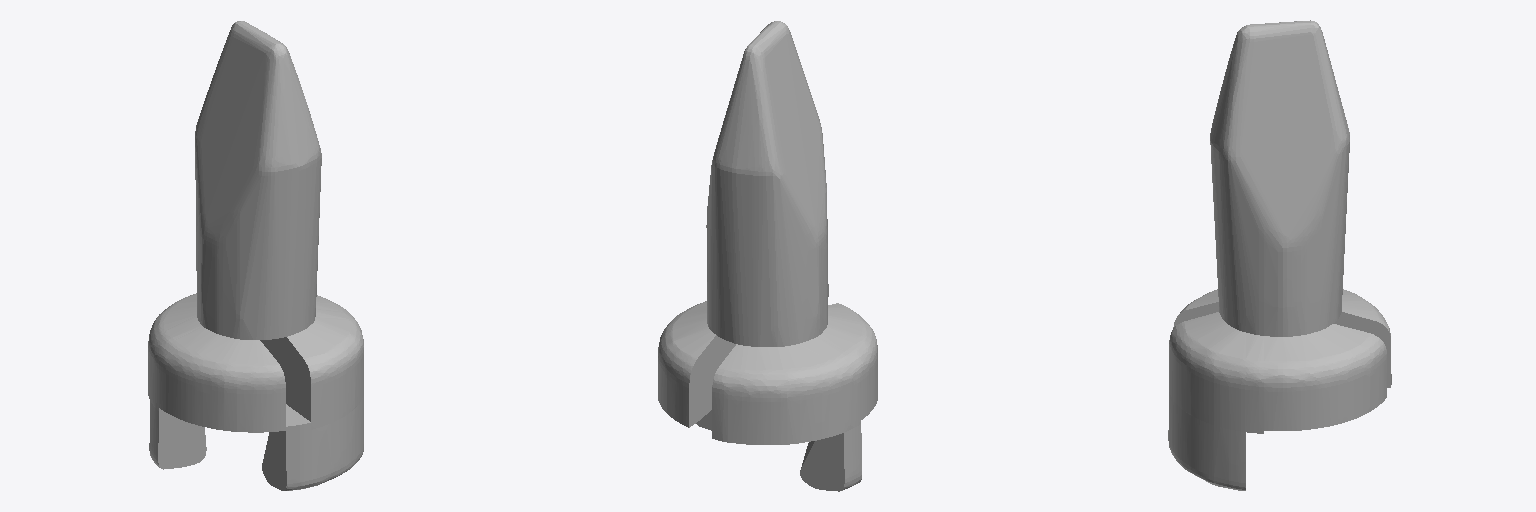
The robot description file, URDF, robot "root":
<robot name="root"><link name="body"><visual>
      <origin xyz="0 0 0" rpy="0 0 0" />
      <geometry>
        <mesh filename="coacd_convex_piece_0.obj" scale="1.0000E+00 1.0000E+00 1.0000E+00" />
      </geometry>
      <material name="">
        <color rgba="7.50E-01 7.50E-01 7.50E-01 1" />
      </material>
    </visual>
    <collision>
      <origin xyz="0 0 0" rpy="0 0 0" />
      <geometry>
        <mesh filename="coacd_convex_piece_0.obj" scale="1.0000E+00 1.0000E+00 1.0000E+00" />
      </geometry>
    </collision>
  <visual>
      <origin xyz="0 0 0" rpy="0 0 0" />
      <geometry>
        <mesh filename="coacd_convex_piece_1.obj" scale="1.0000E+00 1.0000E+00 1.0000E+00" />
      </geometry>
      <material name="">
        <color rgba="7.50E-01 7.50E-01 7.50E-01 1" />
      </material>
    </visual>
    <collision>
      <origin xyz="0 0 0" rpy="0 0 0" />
      <geometry>
        <mesh filename="coacd_convex_piece_1.obj" scale="1.0000E+00 1.0000E+00 1.0000E+00" />
      </geometry>
    </collision>
  <visual>
      <origin xyz="0 0 0" rpy="0 0 0" />
      <geometry>
        <mesh filename="coacd_convex_piece_2.obj" scale="1.0000E+00 1.0000E+00 1.0000E+00" />
      </geometry>
      <material name="">
        <color rgba="7.50E-01 7.50E-01 7.50E-01 1" />
      </material>
    </visual>
    <collision>
      <origin xyz="0 0 0" rpy="0 0 0" />
      <geometry>
        <mesh filename="coacd_convex_piece_2.obj" scale="1.0000E+00 1.0000E+00 1.0000E+00" />
      </geometry>
    </collision>
  <visual>
      <origin xyz="0 0 0" rpy="0 0 0" />
      <geometry>
        <mesh filename="coacd_convex_piece_3.obj" scale="1.0000E+00 1.0000E+00 1.0000E+00" />
      </geometry>
      <material name="">
        <color rgba="7.50E-01 7.50E-01 7.50E-01 1" />
      </material>
    </visual>
    <collision>
      <origin xyz="0 0 0" rpy="0 0 0" />
      <geometry>
        <mesh filename="coacd_convex_piece_3.obj" scale="1.0000E+00 1.0000E+00 1.0000E+00" />
      </geometry>
    </collision>
  <visual>
      <origin xyz="0 0 0" rpy="0 0 0" />
      <geometry>
        <mesh filename="coacd_convex_piece_4.obj" scale="1.0000E+00 1.0000E+00 1.0000E+00" />
      </geometry>
      <material name="">
        <color rgba="7.50E-01 7.50E-01 7.50E-01 1" />
      </material>
    </visual>
    <collision>
      <origin xyz="0 0 0" rpy="0 0 0" />
      <geometry>
        <mesh filename="coacd_convex_piece_4.obj" scale="1.0000E+00 1.0000E+00 1.0000E+00" />
      </geometry>
    </collision>
  <visual>
      <origin xyz="0 0 0" rpy="0 0 0" />
      <geometry>
        <mesh filename="coacd_convex_piece_5.obj" scale="1.0000E+00 1.0000E+00 1.0000E+00" />
      </geometry>
      <material name="">
        <color rgba="7.50E-01 7.50E-01 7.50E-01 1" />
      </material>
    </visual>
    <collision>
      <origin xyz="0 0 0" rpy="0 0 0" />
      <geometry>
        <mesh filename="coacd_convex_piece_5.obj" scale="1.0000E+00 1.0000E+00 1.0000E+00" />
      </geometry>
    </collision>
  <visual>
      <origin xyz="0 0 0" rpy="0 0 0" />
      <geometry>
        <mesh filename="coacd_convex_piece_6.obj" scale="1.0000E+00 1.0000E+00 1.0000E+00" />
      </geometry>
      <material name="">
        <color rgba="7.50E-01 7.50E-01 7.50E-01 1" />
      </material>
    </visual>
    <collision>
      <origin xyz="0 0 0" rpy="0 0 0" />
      <geometry>
        <mesh filename="coacd_convex_piece_6.obj" scale="1.0000E+00 1.0000E+00 1.0000E+00" />
      </geometry>
    </collision>
  <visual>
      <origin xyz="0 0 0" rpy="0 0 0" />
      <geometry>
        <mesh filename="coacd_convex_piece_7.obj" scale="1.0000E+00 1.0000E+00 1.0000E+00" />
      </geometry>
      <material name="">
        <color rgba="7.50E-01 7.50E-01 7.50E-01 1" />
      </material>
    </visual>
    <collision>
      <origin xyz="0 0 0" rpy="0 0 0" />
      <geometry>
        <mesh filename="coacd_convex_piece_7.obj" scale="1.0000E+00 1.0000E+00 1.0000E+00" />
      </geometry>
    </collision>
  <visual>
      <origin xyz="0 0 0" rpy="0 0 0" />
      <geometry>
        <mesh filename="coacd_convex_piece_8.obj" scale="1.0000E+00 1.0000E+00 1.0000E+00" />
      </geometry>
      <material name="">
        <color rgba="7.50E-01 7.50E-01 7.50E-01 1" />
      </material>
    </visual>
    <collision>
      <origin xyz="0 0 0" rpy="0 0 0" />
      <geometry>
        <mesh filename="coacd_convex_piece_8.obj" scale="1.0000E+00 1.0000E+00 1.0000E+00" />
      </geometry>
    </collision>
  <visual>
      <origin xyz="0 0 0" rpy="0 0 0" />
      <geometry>
        <mesh filename="coacd_convex_piece_9.obj" scale="1.0000E+00 1.0000E+00 1.0000E+00" />
      </geometry>
      <material name="">
        <color rgba="7.50E-01 7.50E-01 7.50E-01 1" />
      </material>
    </visual>
    <collision>
      <origin xyz="0 0 0" rpy="0 0 0" />
      <geometry>
        <mesh filename="coacd_convex_piece_9.obj" scale="1.0000E+00 1.0000E+00 1.0000E+00" />
      </geometry>
    </collision>
  <visual>
      <origin xyz="0 0 0" rpy="0 0 0" />
      <geometry>
        <mesh filename="coacd_convex_piece_10.obj" scale="1.0000E+00 1.0000E+00 1.0000E+00" />
      </geometry>
      <material name="">
        <color rgba="7.50E-01 7.50E-01 7.50E-01 1" />
      </material>
    </visual>
    <collision>
      <origin xyz="0 0 0" rpy="0 0 0" />
      <geometry>
        <mesh filename="coacd_convex_piece_10.obj" scale="1.0000E+00 1.0000E+00 1.0000E+00" />
      </geometry>
    </collision>
  <visual>
      <origin xyz="0 0 0" rpy="0 0 0" />
      <geometry>
        <mesh filename="coacd_convex_piece_11.obj" scale="1.0000E+00 1.0000E+00 1.0000E+00" />
      </geometry>
      <material name="">
        <color rgba="7.50E-01 7.50E-01 7.50E-01 1" />
      </material>
    </visual>
    <collision>
      <origin xyz="0 0 0" rpy="0 0 0" />
      <geometry>
        <mesh filename="coacd_convex_piece_11.obj" scale="1.0000E+00 1.0000E+00 1.0000E+00" />
      </geometry>
    </collision>
  <visual>
      <origin xyz="0 0 0" rpy="0 0 0" />
      <geometry>
        <mesh filename="coacd_convex_piece_12.obj" scale="1.0000E+00 1.0000E+00 1.0000E+00" />
      </geometry>
      <material name="">
        <color rgba="7.50E-01 7.50E-01 7.50E-01 1" />
      </material>
    </visual>
    <collision>
      <origin xyz="0 0 0" rpy="0 0 0" />
      <geometry>
        <mesh filename="coacd_convex_piece_12.obj" scale="1.0000E+00 1.0000E+00 1.0000E+00" />
      </geometry>
    </collision>
  <visual>
      <origin xyz="0 0 0" rpy="0 0 0" />
      <geometry>
        <mesh filename="coacd_convex_piece_13.obj" scale="1.0000E+00 1.0000E+00 1.0000E+00" />
      </geometry>
      <material name="">
        <color rgba="7.50E-01 7.50E-01 7.50E-01 1" />
      </material>
    </visual>
    <collision>
      <origin xyz="0 0 0" rpy="0 0 0" />
      <geometry>
        <mesh filename="coacd_convex_piece_13.obj" scale="1.0000E+00 1.0000E+00 1.0000E+00" />
      </geometry>
    </collision>
  <visual>
      <origin xyz="0 0 0" rpy="0 0 0" />
      <geometry>
        <mesh filename="coacd_convex_piece_14.obj" scale="1.0000E+00 1.0000E+00 1.0000E+00" />
      </geometry>
      <material name="">
        <color rgba="7.50E-01 7.50E-01 7.50E-01 1" />
      </material>
    </visual>
    <collision>
      <origin xyz="0 0 0" rpy="0 0 0" />
      <geometry>
        <mesh filename="coacd_convex_piece_14.obj" scale="1.0000E+00 1.0000E+00 1.0000E+00" />
      </geometry>
    </collision>
  <visual>
      <origin xyz="0 0 0" rpy="0 0 0" />
      <geometry>
        <mesh filename="coacd_convex_piece_15.obj" scale="1.0000E+00 1.0000E+00 1.0000E+00" />
      </geometry>
      <material name="">
        <color rgba="7.50E-01 7.50E-01 7.50E-01 1" />
      </material>
    </visual>
    <collision>
      <origin xyz="0 0 0" rpy="0 0 0" />
      <geometry>
        <mesh filename="coacd_convex_piece_15.obj" scale="1.0000E+00 1.0000E+00 1.0000E+00" />
      </geometry>
    </collision>
  <visual>
      <origin xyz="0 0 0" rpy="0 0 0" />
      <geometry>
        <mesh filename="coacd_convex_piece_16.obj" scale="1.0000E+00 1.0000E+00 1.0000E+00" />
      </geometry>
      <material name="">
        <color rgba="7.50E-01 7.50E-01 7.50E-01 1" />
      </material>
    </visual>
    <collision>
      <origin xyz="0 0 0" rpy="0 0 0" />
      <geometry>
        <mesh filename="coacd_convex_piece_16.obj" scale="1.0000E+00 1.0000E+00 1.0000E+00" />
      </geometry>
    </collision>
  </link></robot>

--- Render facts (derived) ---
The picture shows the robot from 3 angles, left to right: view 1: azimuth 30°, elevation 25°; view 2: azimuth 150°, elevation 25°; view 3: azimuth 270°, elevation 25°; orthographic projection.
Robot: root — 1 links, 0 joints (none); root link body; default pose: every joint at zero.
Visible links, largest first — view 1: body; view 2: body; view 3: body.
Boxes of the visible links, box(x1,y1,x2,y2) form: body: box(148, 21, 363, 490); body: box(658, 21, 877, 491); body: box(1168, 20, 1391, 490).
Size in the robot's own frame: 0.8451 by 0.8446 by 1.8 metres.
10 mesh visuals loaded from 17 distinct referenced files (10 OBJ); not drawn: 7 (reference not matched to a file when rendering).